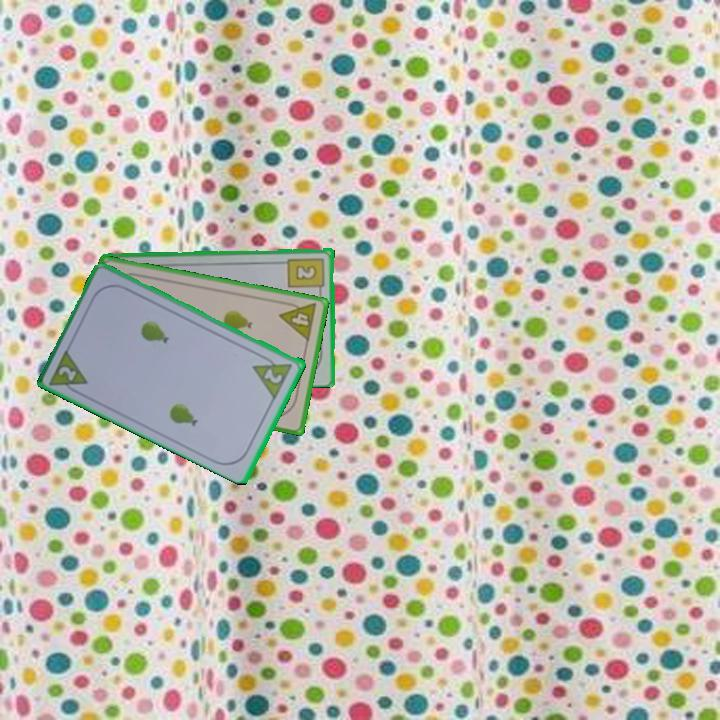2b: (285, 254, 328, 296)
2p: (46, 345, 92, 399), (261, 365, 286, 386)
4p: (276, 297, 320, 344)
